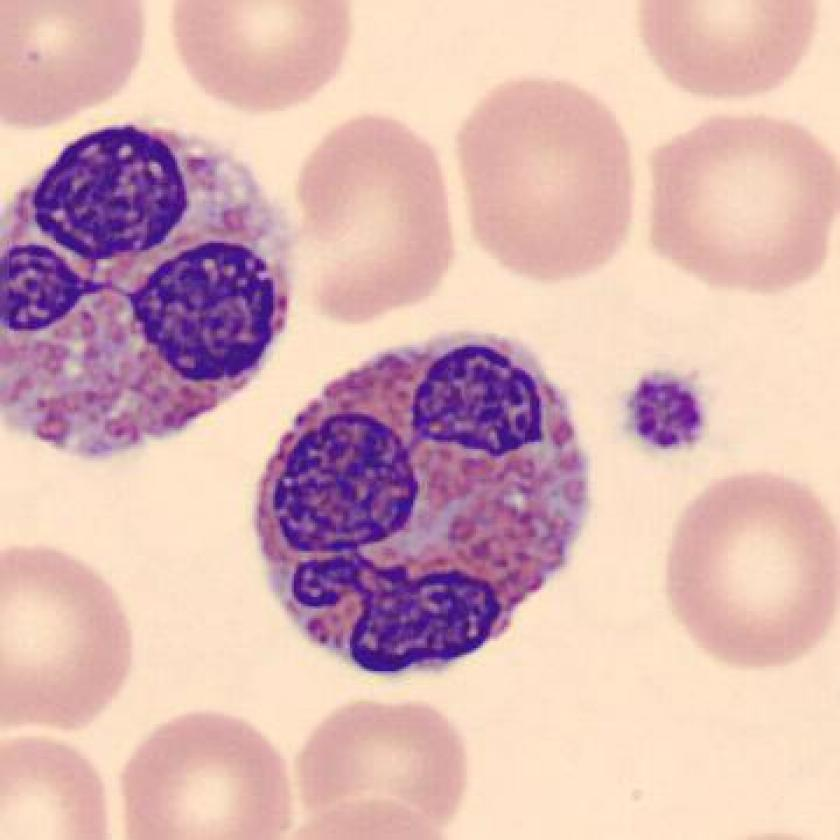eosinophil: (244, 323, 608, 691)
